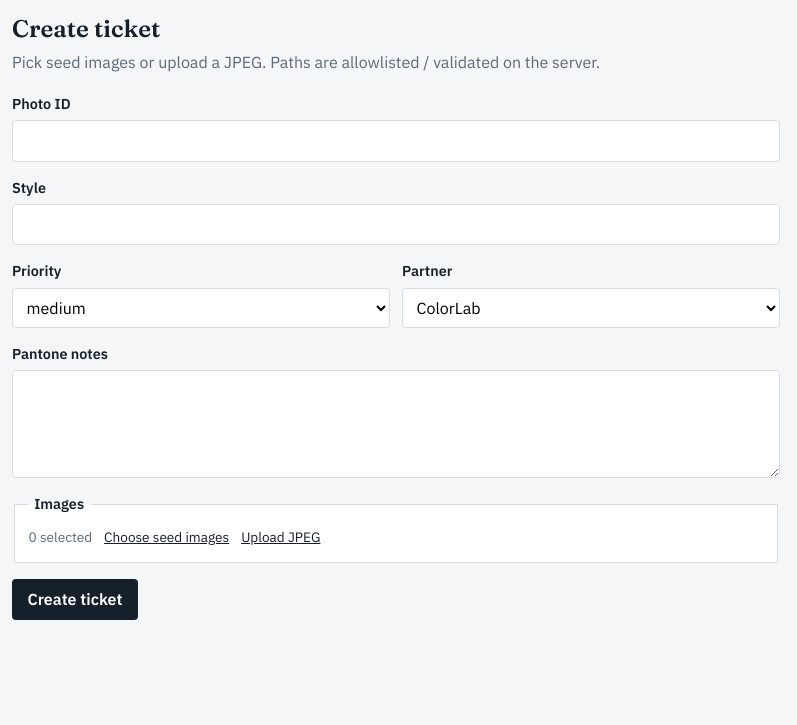
Test: TicketCreateView validation › surfaces API VALIDATION_ERROR field details
Type "x" into the field labelled "Photo ID".
click(396, 141); type("x")  # box [12,120,780,162]
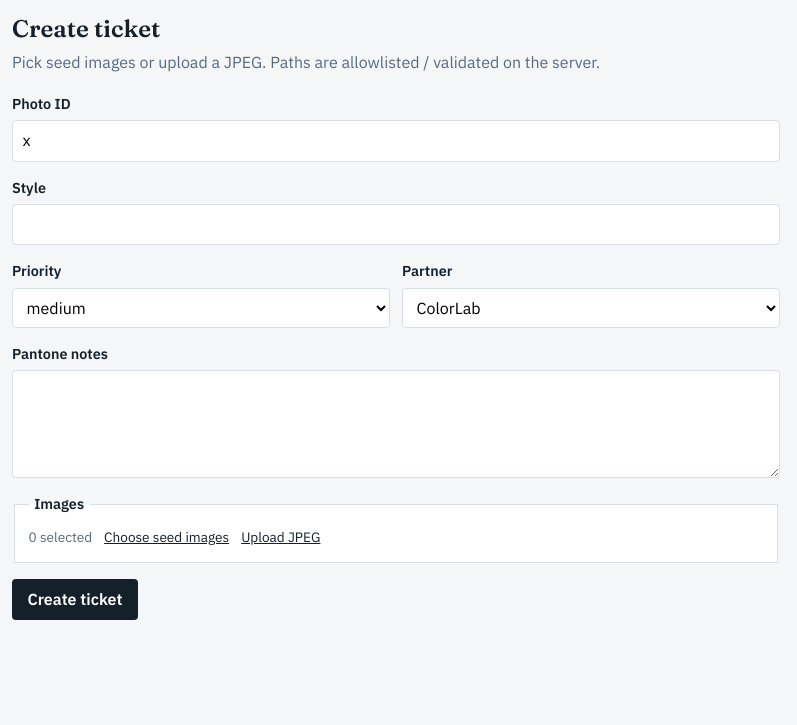
Type "Style" into the field with id "style".
click(396, 225); type("Style")  # box [12,204,780,245]
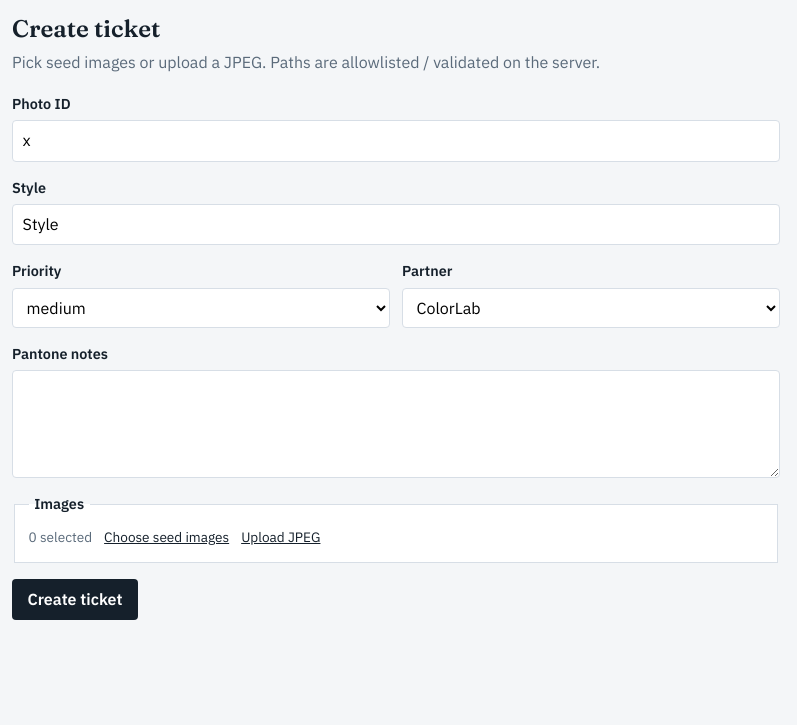
Type "Notes" into the text box labelled "Pantone notes".
click(396, 424); type("Notes")  # box [12,370,780,478]
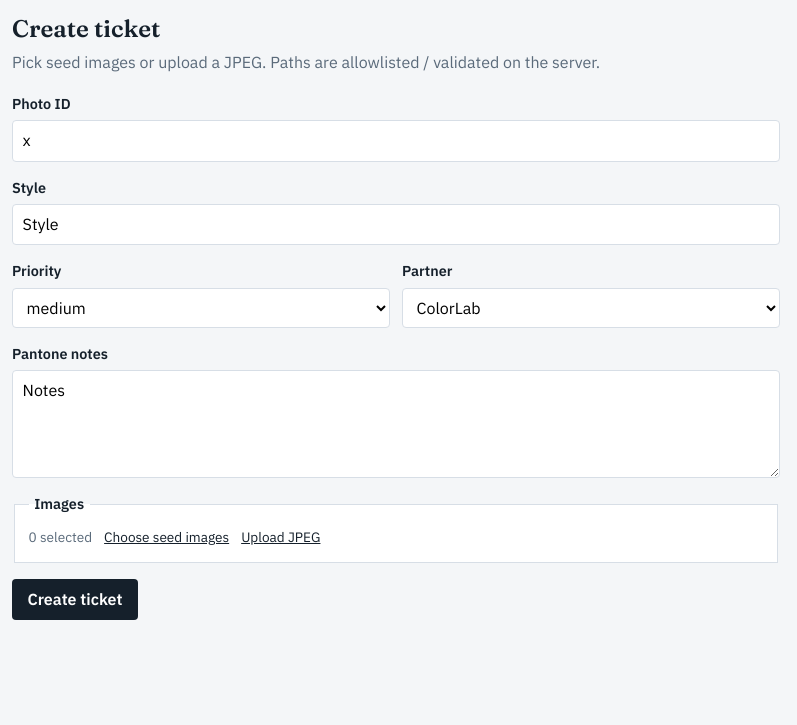
Submit the form
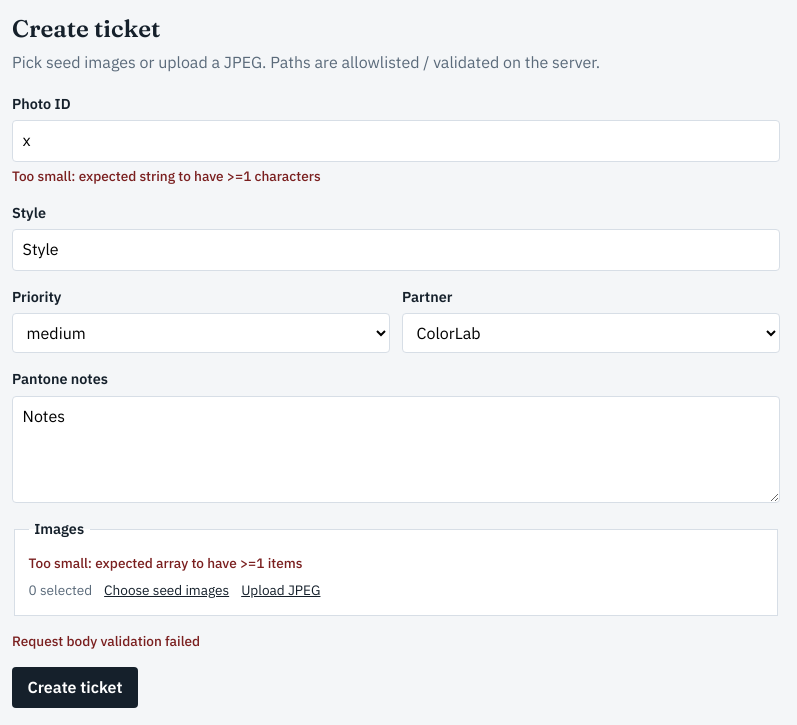
expect the text "Request body validation failed" is shown: met, box [12,632,200,650]
expect the text "expected string to have >=1 characters" is shown: met, box [12,167,321,185]
expect the text "expected array to have >=1 items" is shown: met, box [29,554,302,572]
